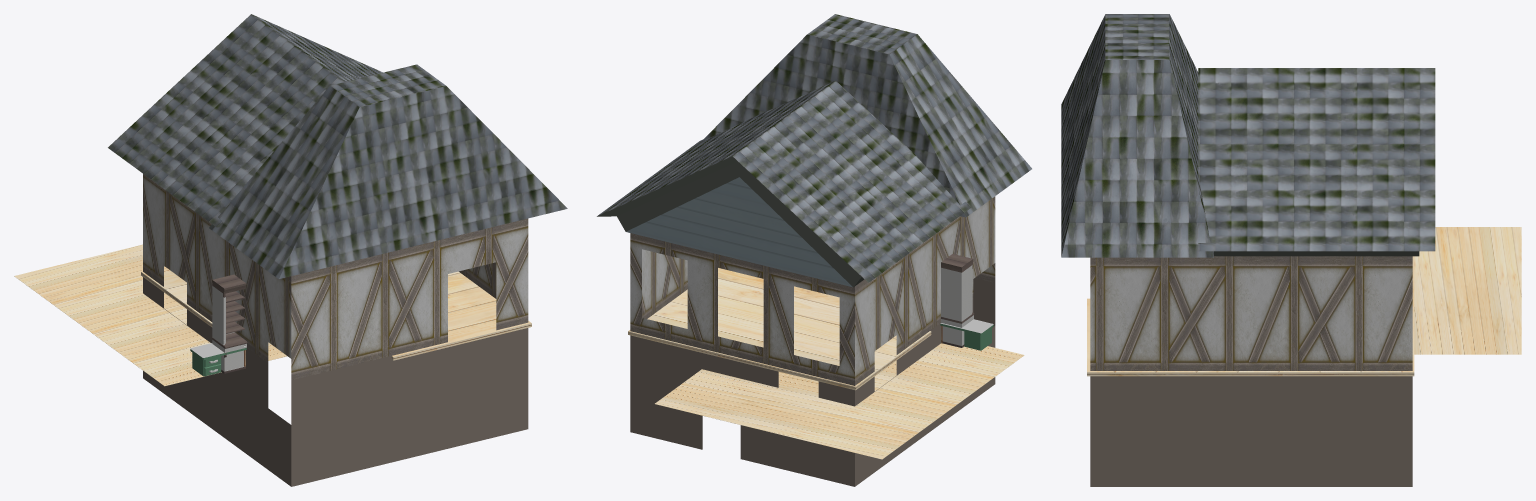
The model's file is 蔬果店.fbx.
3 views of the same model, side by side, from view 1: azimuth 30°, elevation 25°; view 2: azimuth 150°, elevation 25°; view 3: azimuth 270°, elevation 25° (orthographic). The views are drawn at different scales.
Parts seen in each view (by area): view 1: 蔬果店屋頂, 牆壁7_109.002, 蔬果一樓地板, 蔬果二樓地板, 桌子32, 桌子31; view 2: 蔬果店屋頂, 牆壁7_109.002, 蔬果一樓地板, 牆壁7_109.001, 蔬果二樓地板, 桌子32, 桌子31; view 3: 蔬果店屋頂, 牆壁7_109.002, 蔬果一樓地板, 蔬果二樓地板.
Boxes of the visible parts, x1,y1,x2,y2 form: 蔬果店屋頂: [108, 14, 567, 278]; 牆壁7_109.002: [143, 174, 528, 486]; 蔬果一樓地板: [14, 244, 286, 386]; 蔬果二樓地板: [141, 266, 531, 360]; 桌子32: [212, 274, 247, 373]; 桌子31: [190, 343, 246, 376]; 蔬果店屋頂: [597, 14, 1031, 287]; 牆壁7_109.002: [630, 196, 995, 486]; 蔬果一樓地板: [655, 343, 1024, 459]; 牆壁7_109.001: [626, 177, 852, 287]; 蔬果二樓地板: [628, 268, 931, 390]; 桌子32: [941, 254, 974, 347]; 桌子31: [940, 319, 993, 350]; 蔬果店屋頂: [1061, 14, 1435, 257]; 牆壁7_109.002: [1090, 256, 1412, 486]; 蔬果一樓地板: [1414, 227, 1521, 354]; 蔬果二樓地板: [1087, 256, 1414, 376].
Bounding box in the file's own units: 1680 × 1671 × 1800.
